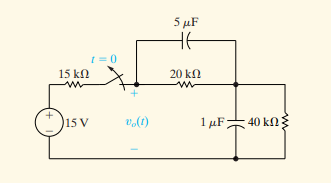capacitor: (176, 30, 200, 53), (225, 115, 248, 134)
dc: (33, 105, 66, 140)
resistor: (278, 109, 297, 138), (61, 80, 92, 93), (169, 79, 202, 91)
